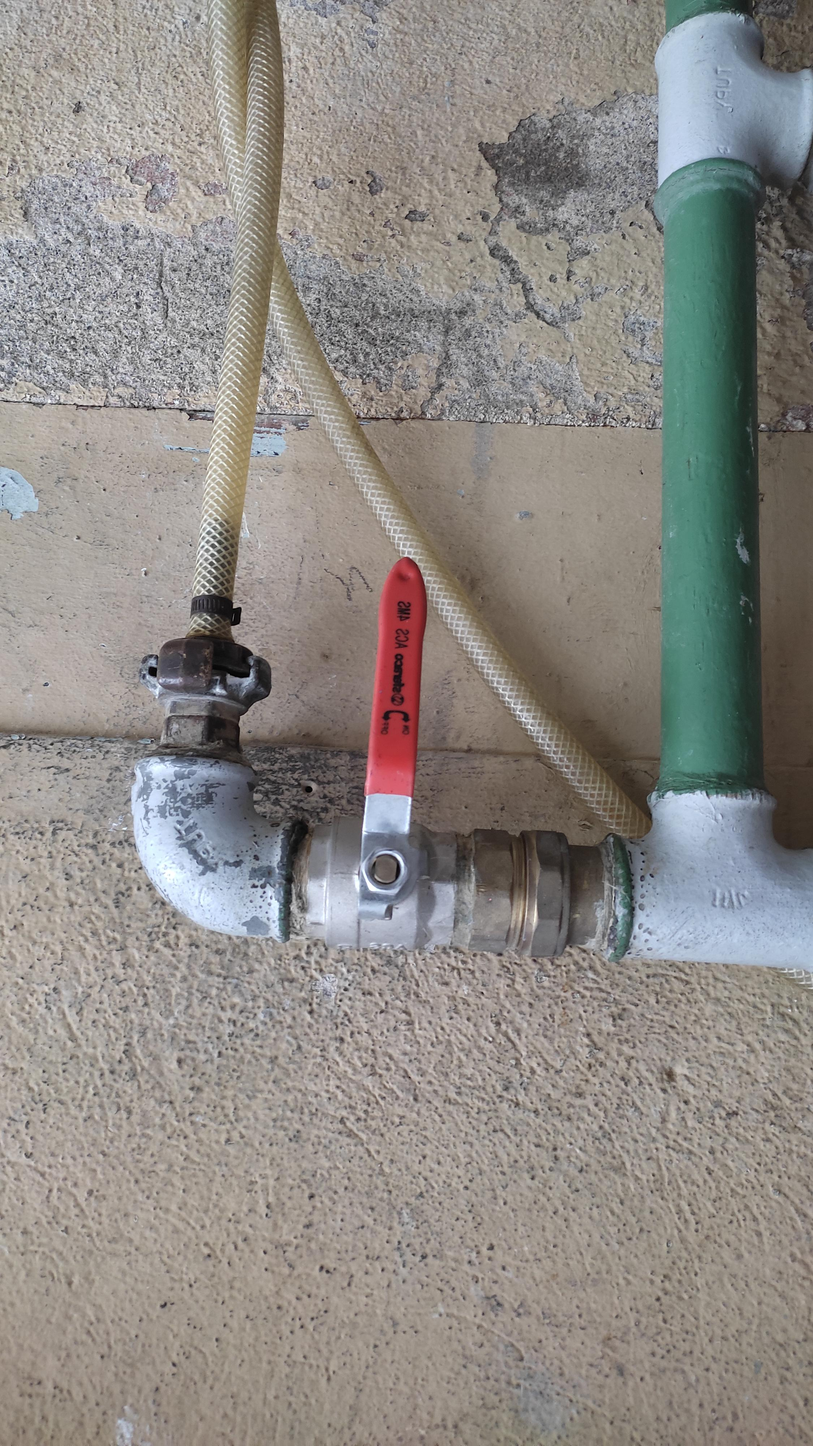closed valve: (319, 549, 463, 965)
